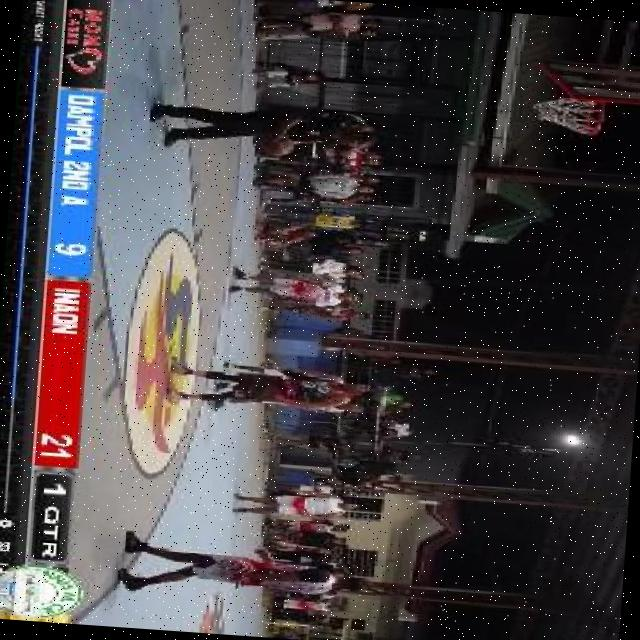ball: (242, 128, 298, 162)
hoop: (581, 98, 608, 138)
